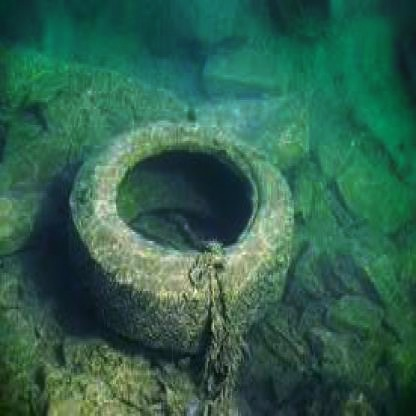tire: (69, 105, 294, 370)
